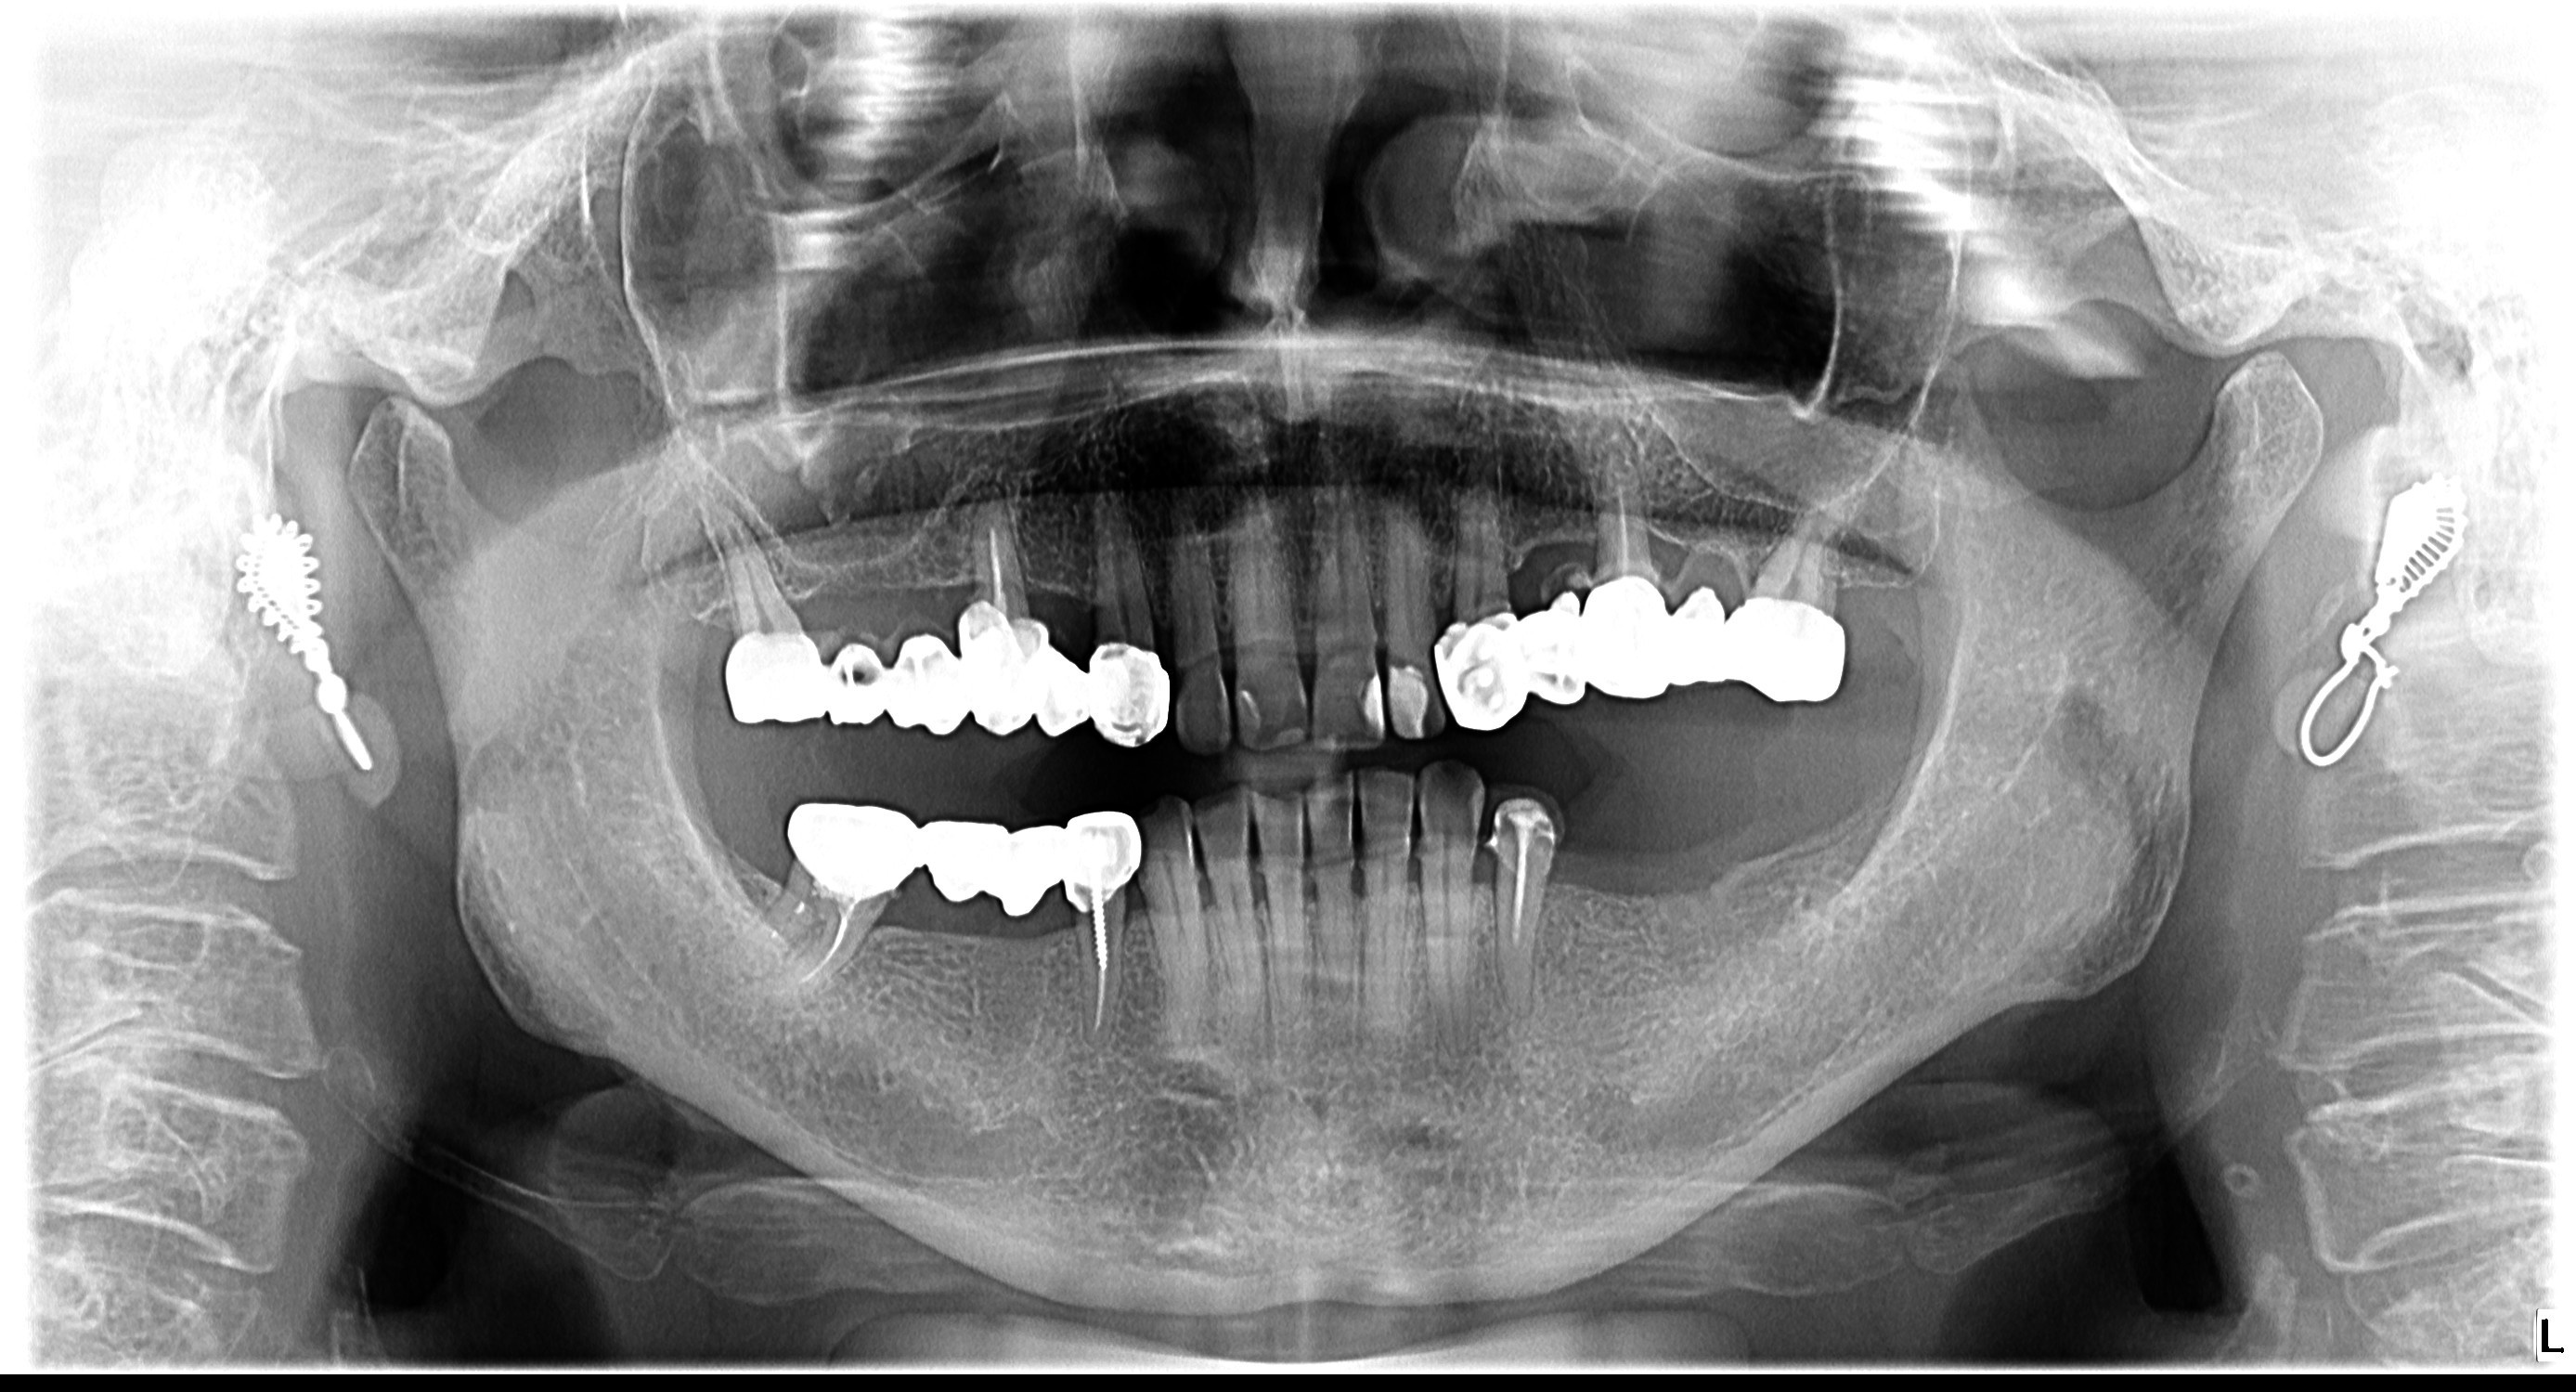CAR: (1259, 681, 1312, 749), (856, 866, 909, 931), (1374, 627, 1411, 691)
END: (1497, 837, 1552, 972), (1589, 463, 1653, 579), (1072, 912, 1120, 1049), (959, 514, 1024, 612), (790, 907, 860, 994)
OBT: (1473, 787, 1555, 850), (1379, 665, 1440, 741), (1213, 682, 1269, 758), (1345, 663, 1389, 735)
PRR: (707, 609, 1182, 771), (1430, 573, 1872, 741), (764, 789, 1153, 929)
